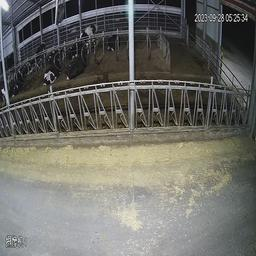cow: (39, 51, 63, 89), (66, 43, 89, 81), (78, 21, 101, 55), (10, 65, 28, 100), (32, 40, 46, 66)
